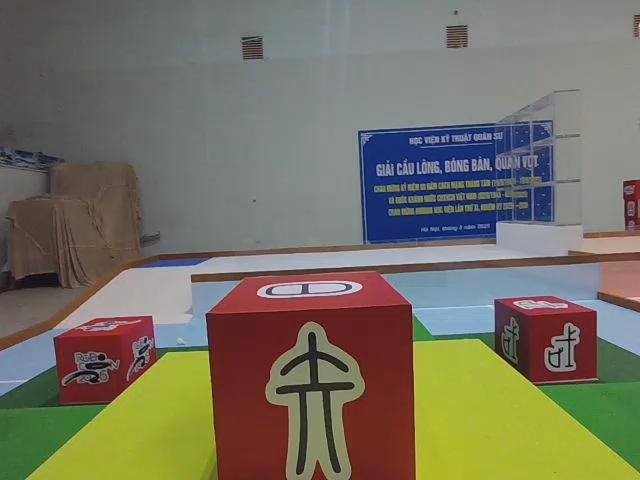R1: (51, 313, 159, 405)
R2 Fake: (203, 267, 418, 480)
R2 Real: (492, 293, 600, 383)
